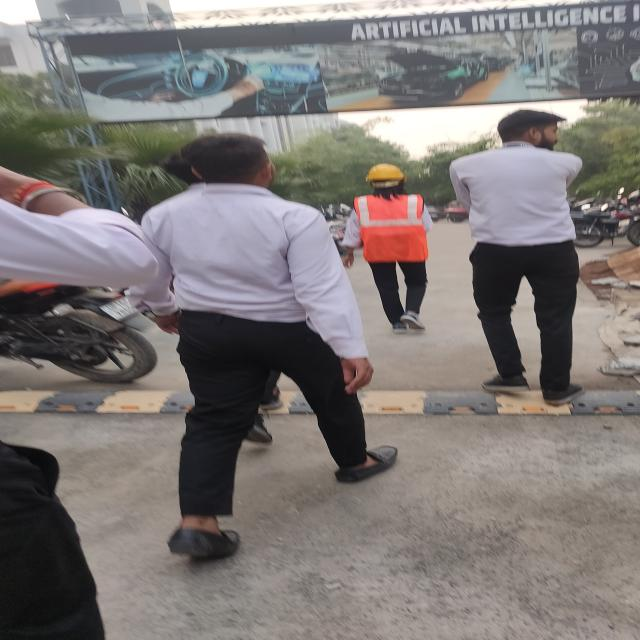safe: (338, 164, 441, 338)
unsafe: (134, 130, 408, 561), (448, 108, 600, 409)
